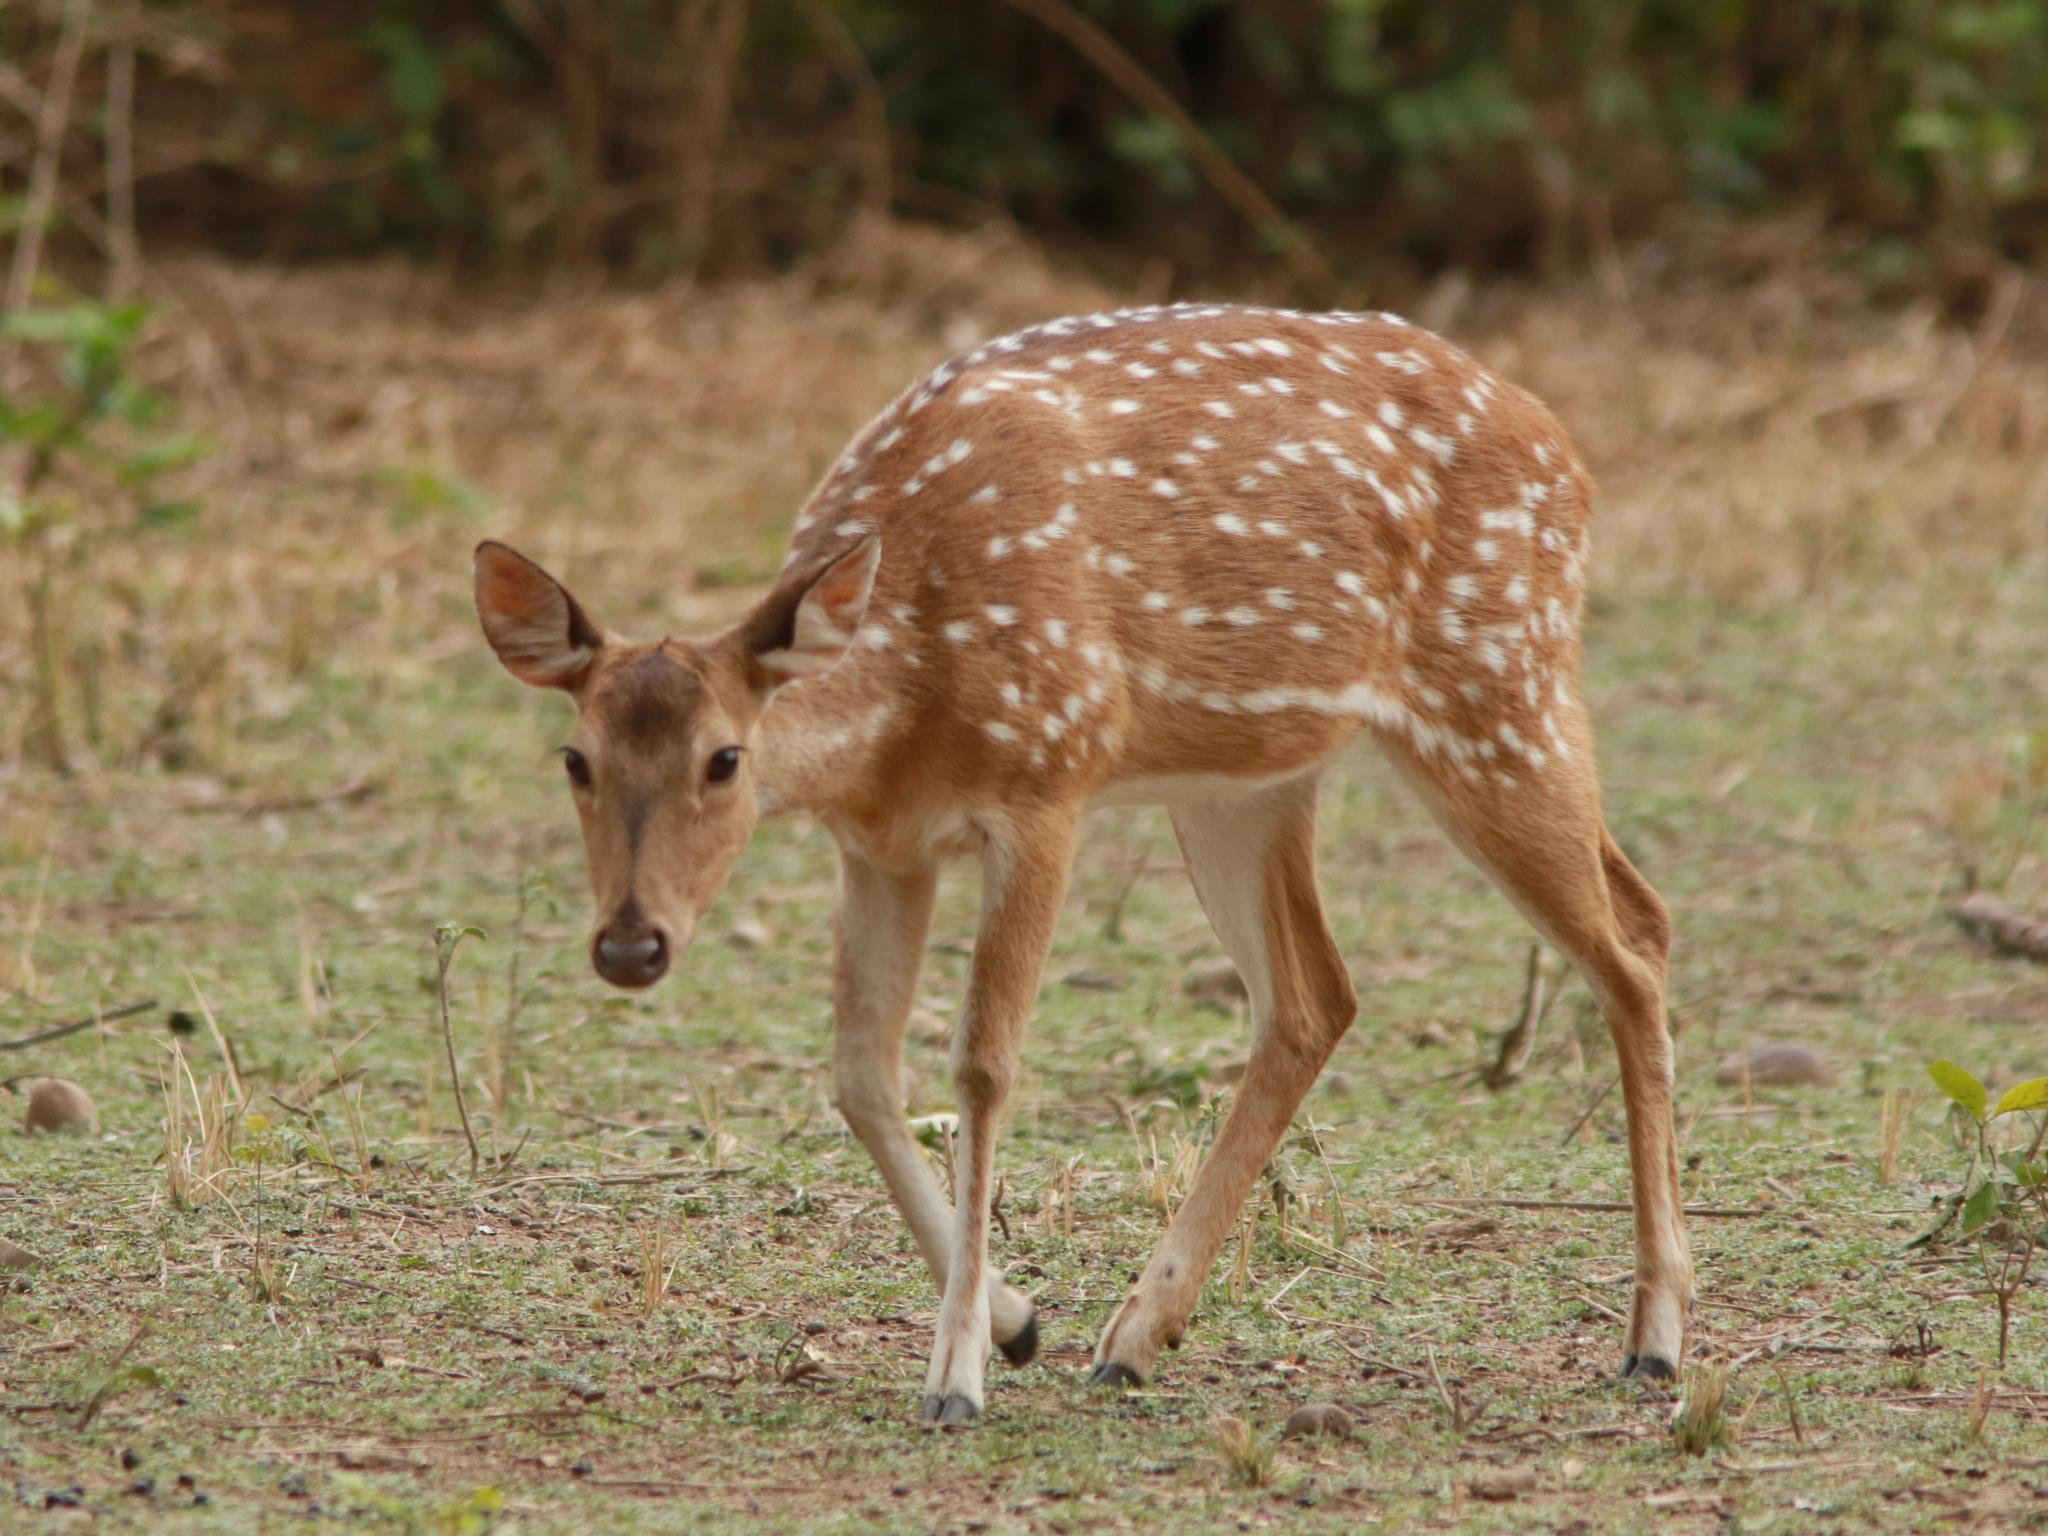Deer: (476, 303, 1692, 1423)
